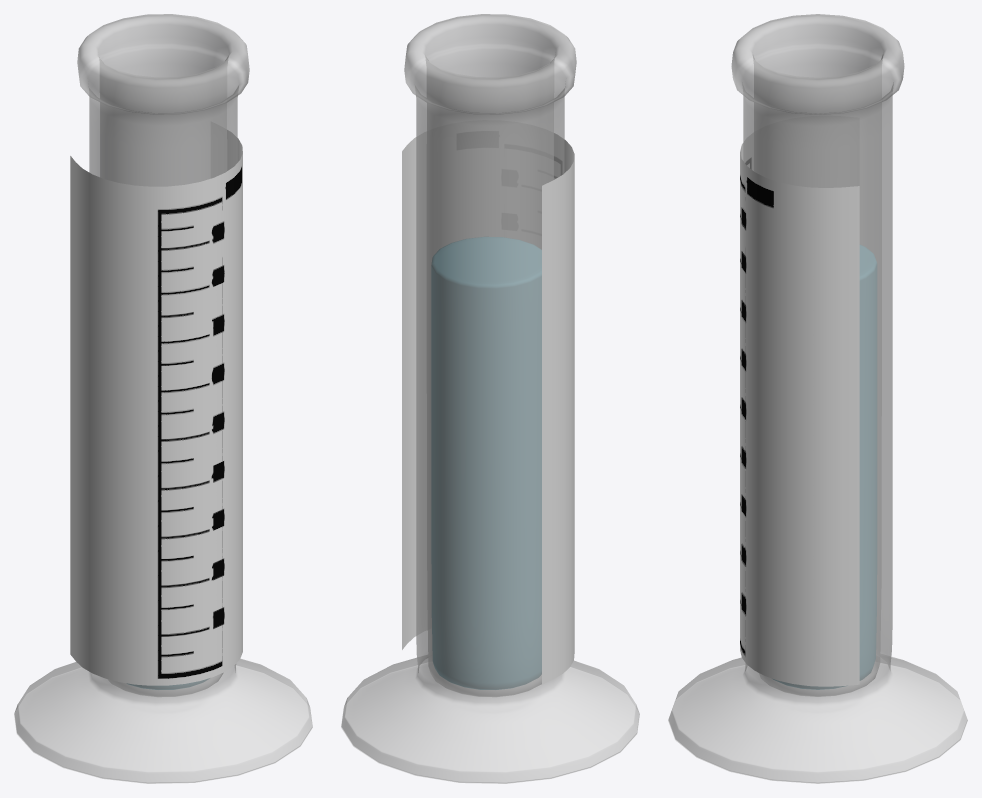
The model's file is Fluid_Cylinder07.fbx.
3 renders of one model, left to right at view 1: azimuth 30°, elevation 25°; view 2: azimuth 150°, elevation 25°; view 3: azimuth 270°, elevation 25°, orthographic.
Parts seen in each view (by area): view 1: UnitScale, Glass_Cylinder; view 2: Glass_Cylinder, Fluid_MESH, UnitScale; view 3: Glass_Cylinder, UnitScale, Fluid_MESH.
Part boxes in pixels (bbox=[...]): UnitScale: bbox=[70, 130, 242, 685]; Glass_Cylinder: bbox=[14, 14, 312, 783]; Glass_Cylinder: bbox=[341, 14, 639, 783]; Fluid_MESH: bbox=[431, 237, 541, 689]; UnitScale: bbox=[402, 132, 574, 684]; Glass_Cylinder: bbox=[668, 14, 967, 783]; UnitScale: bbox=[740, 133, 859, 686]; Fluid_MESH: bbox=[773, 245, 876, 689].
Size of the model in its own units: 0.8255 by 2.04 by 0.8244.
3 materials, 1 textured.
